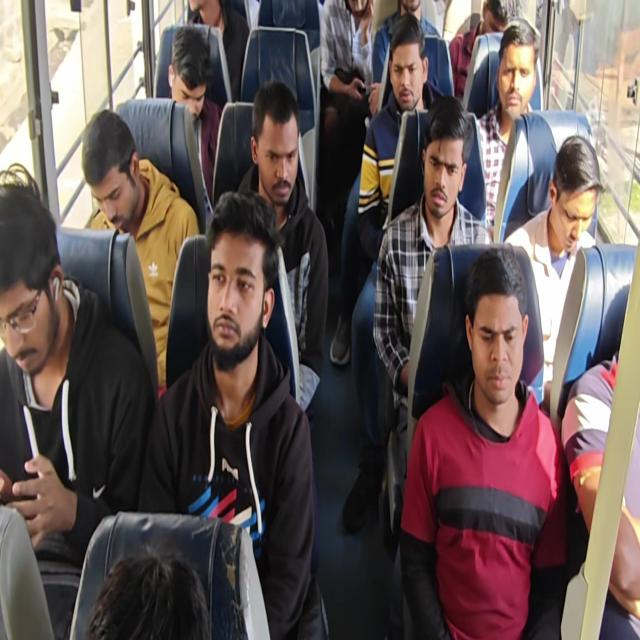person: (0, 192, 67, 368), (462, 266, 522, 422), (78, 124, 148, 240), (206, 226, 262, 366), (547, 134, 595, 257), (251, 100, 300, 218), (167, 28, 209, 129), (499, 33, 539, 125), (427, 112, 461, 215), (386, 42, 422, 106), (481, 0, 514, 41), (182, 0, 222, 30), (332, 0, 369, 31), (389, 0, 428, 21)
